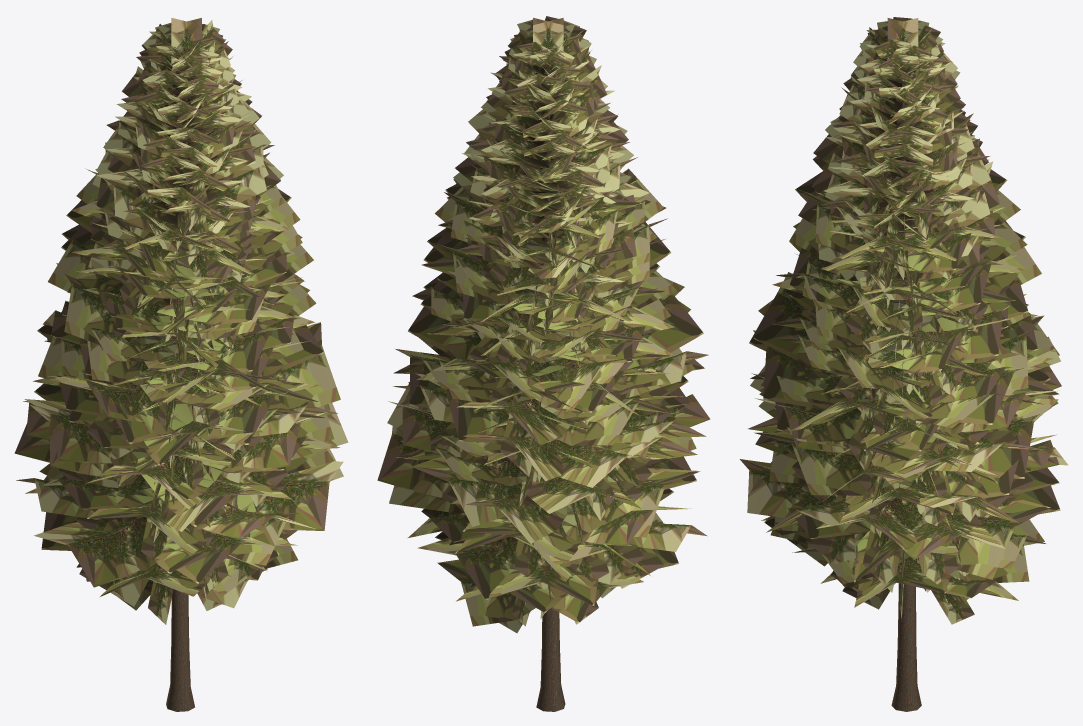
The model's file is fir_medium_b_lod1.gltf.
3 renders of one model, left to right at view 1: azimuth 30°, elevation 25°; view 2: azimuth 150°, elevation 25°; view 3: azimuth 270°, elevation 25°, orthographic.
Visible parts, largest first — view 1: fir_medium_b_LOD1; view 2: fir_medium_b_LOD1; view 3: fir_medium_b_LOD1.
Part boxes in pixels (bbox=[...]): fir_medium_b_LOD1: bbox=[14, 18, 348, 711]; fir_medium_b_LOD1: bbox=[377, 16, 710, 711]; fir_medium_b_LOD1: bbox=[740, 17, 1068, 711].
Bounding box in the file's own units: 10.26 × 23.52 × 10.23.
2 materials, 2 textured.
